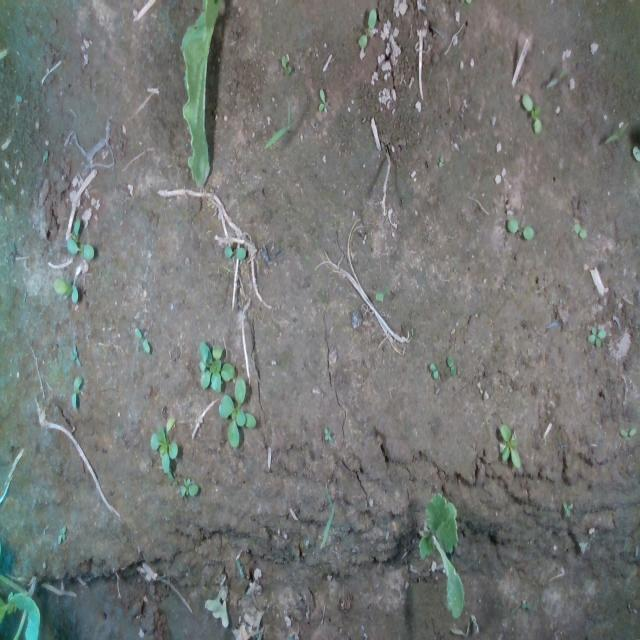weed: (497, 421, 521, 468), (520, 91, 542, 134), (357, 7, 377, 51), (52, 276, 78, 302), (506, 217, 534, 241), (66, 237, 94, 260), (133, 325, 151, 352), (585, 324, 607, 346), (70, 374, 82, 410), (179, 475, 197, 496), (68, 342, 82, 367), (223, 244, 247, 258), (318, 87, 330, 114), (571, 222, 587, 238), (447, 356, 458, 376), (280, 54, 292, 72), (561, 498, 573, 516), (619, 426, 636, 438), (428, 362, 439, 378), (322, 426, 332, 442), (437, 154, 443, 168)
